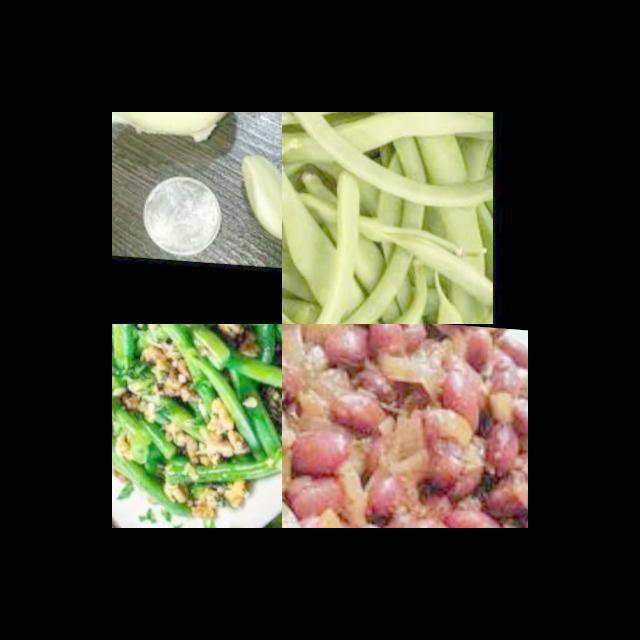garlic: (236, 130, 282, 249)
